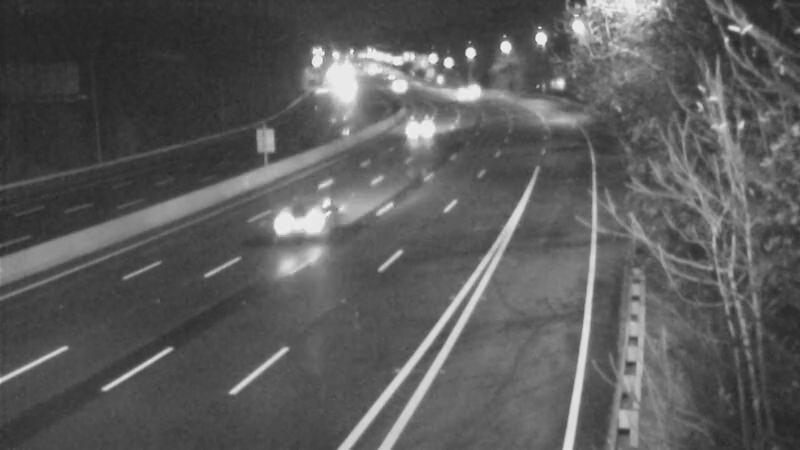vehicle: (265, 179, 345, 259), (372, 60, 422, 110), (426, 69, 476, 119), (454, 68, 504, 118), (375, 105, 425, 155)
